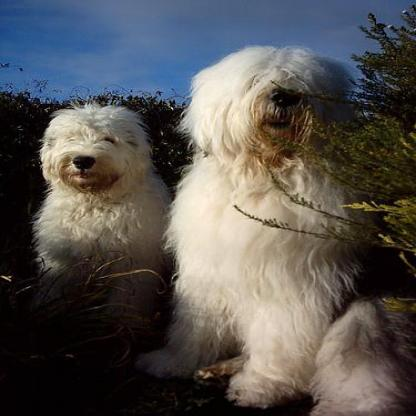Old_English_sheepdog: (135, 43, 413, 414), (28, 98, 171, 276)
